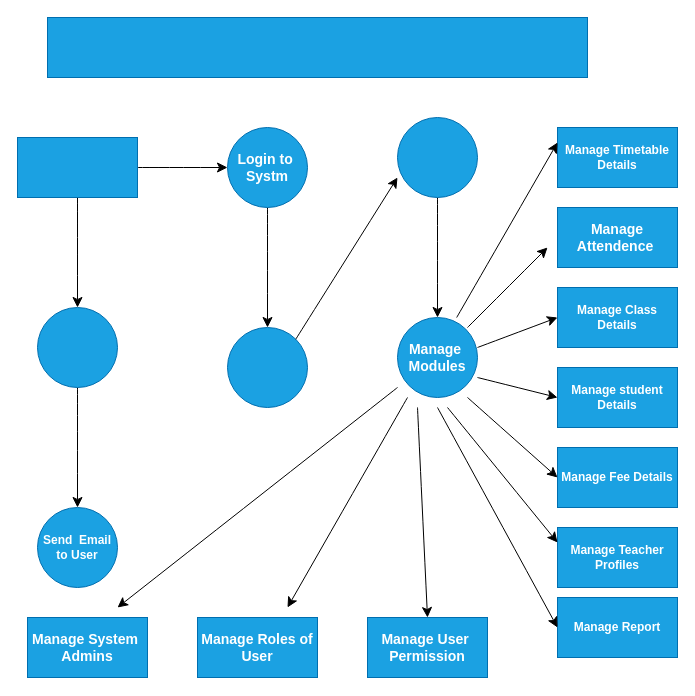
This 695x696 diagram has some shape labels left out. Each missing label, with the box of its shape:
Admin: (16, 136, 138, 198)
Check Credentials: (226, 326, 308, 408)
Check Roles of Access: (396, 116, 478, 198)
Forgot Password: (36, 306, 118, 388)
Student Information System: (46, 16, 588, 78)
